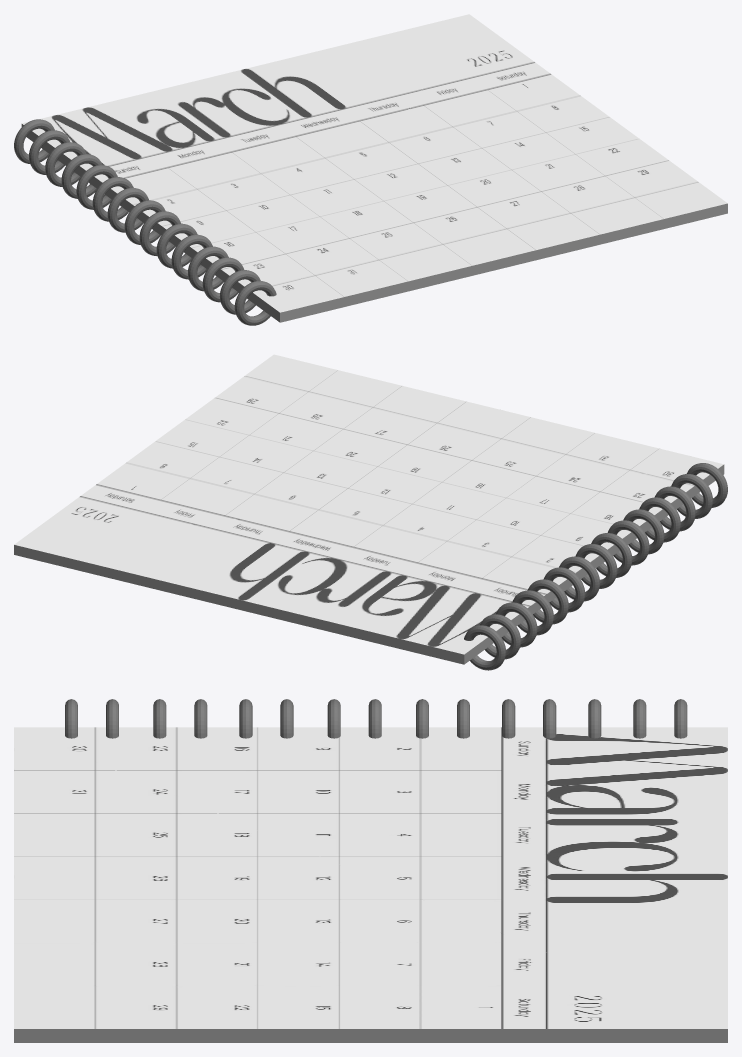
Rendered from Calendar.fbx.
3 views of the same model, one above another, from view 1: azimuth 30°, elevation 25°; view 2: azimuth 150°, elevation 25°; view 3: azimuth 270°, elevation 25° (orthographic). The views are drawn at different scales.
Visible parts, largest first — view 1: Torus; view 2: Torus; view 3: Torus.
Part boxes in pixels (bbox=[...]): Torus: bbox=[14, 14, 727, 325]; Torus: bbox=[14, 354, 727, 670]; Torus: bbox=[14, 699, 727, 1042].
Bounding box in the file's own units: 211 × 18.47 × 200.
Materials: 3 (1 with a texture image).
